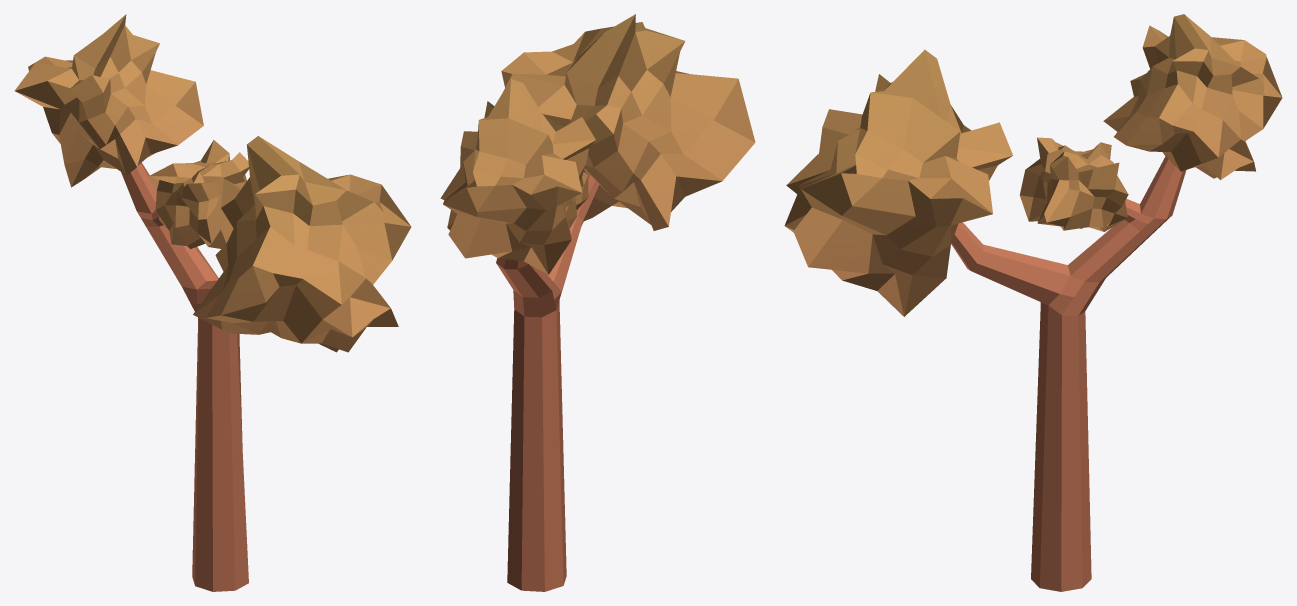
Rendered from Tree_03_gradient_yellow_vc.fbx.
3 renders of one model, left to right at view 1: azimuth 30°, elevation 25°; view 2: azimuth 150°, elevation 25°; view 3: azimuth 270°, elevation 25°, orthographic. The views are drawn at different scales.
Parts seen in each view (by area): view 1: Tree_03_gradient_yellow_vc; view 2: Tree_03_gradient_yellow_vc; view 3: Tree_03_gradient_yellow_vc.
Part boxes in pixels (x1=…): Tree_03_gradient_yellow_vc: x1=14, y1=14, x2=411, y2=591; Tree_03_gradient_yellow_vc: x1=440, y1=14, x2=755, y2=591; Tree_03_gradient_yellow_vc: x1=784, y1=14, x2=1282, y2=591.
Size of the model in its own units: 77.81 by 178 by 146.
